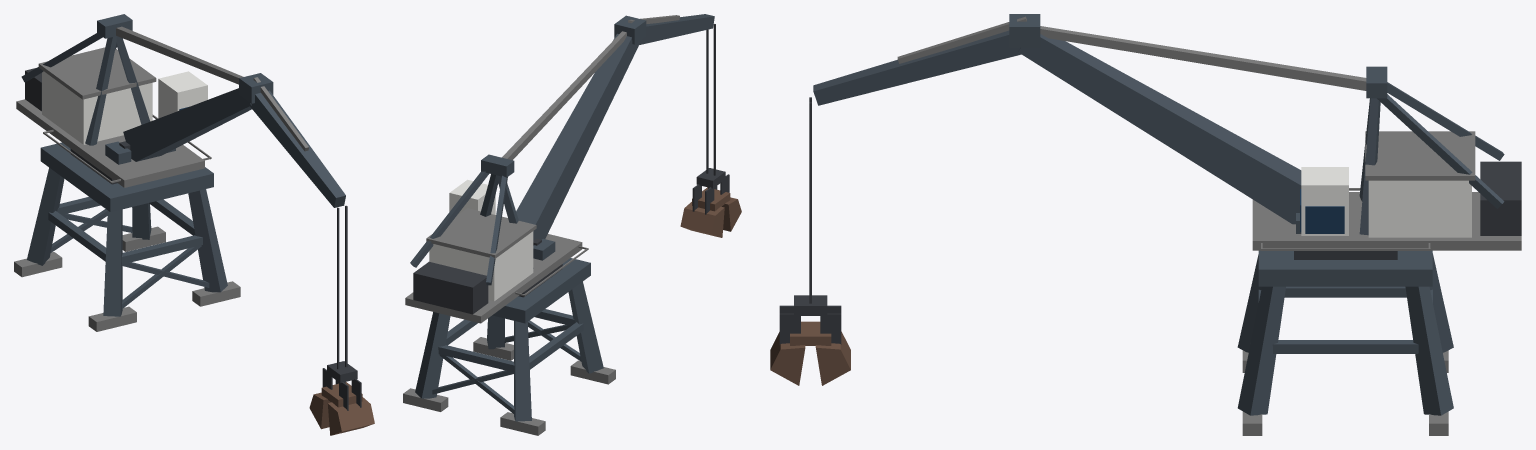
File: port_crane_far.fbx
The picture shows the model from 3 angles, left to right: view 1: azimuth 30°, elevation 25°; view 2: azimuth 150°, elevation 25°; view 3: azimuth 270°, elevation 25°; orthographic projection. The views are drawn at different scales.
Visible parts, largest first — view 1: a401_0_port_crane_far; view 2: a401_0_port_crane_far; view 3: a401_0_port_crane_far.
Part boxes in pixels (x1,y1,x2,y2): a401_0_port_crane_far: [14, 14, 374, 435]; a401_0_port_crane_far: [403, 14, 741, 435]; a401_0_port_crane_far: [770, 14, 1521, 435].
Bounding box in the file's own units: 8 × 15.97 × 29.04.
